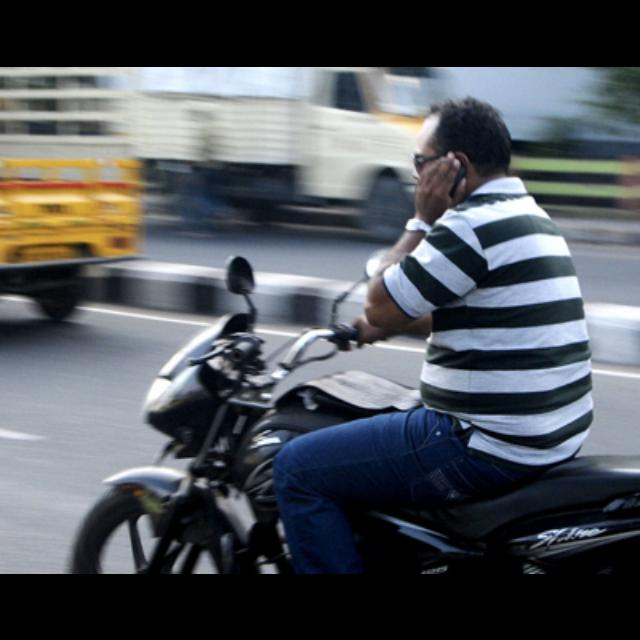Without Helmet: (406, 97, 516, 207)
